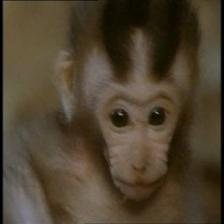monkey: (53, 2, 209, 208)
